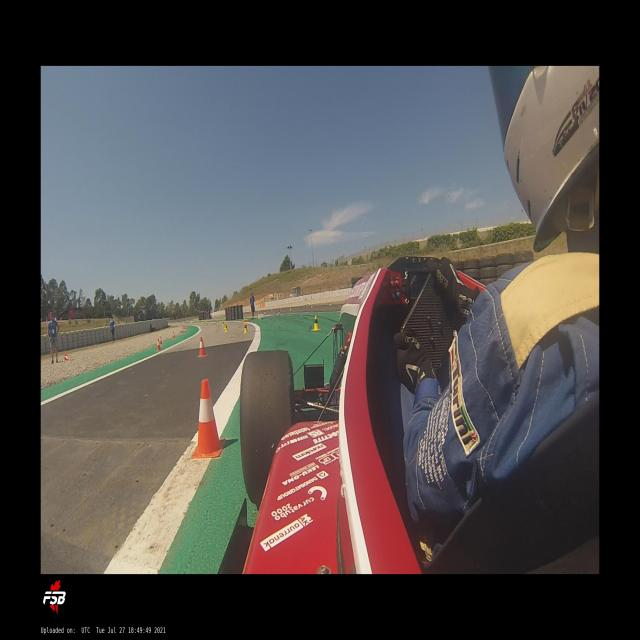orange_cone: (190, 379, 226, 459), (197, 337, 208, 358), (156, 338, 162, 352), (64, 354, 69, 360), (160, 335, 162, 344), (172, 332, 175, 338), (278, 309, 281, 315), (184, 328, 187, 333)
yellow_cone: (310, 315, 320, 331), (243, 322, 248, 334), (224, 322, 228, 333), (216, 319, 219, 325), (256, 314, 259, 320), (222, 320, 224, 327), (264, 309, 266, 315), (224, 322, 225, 329)
